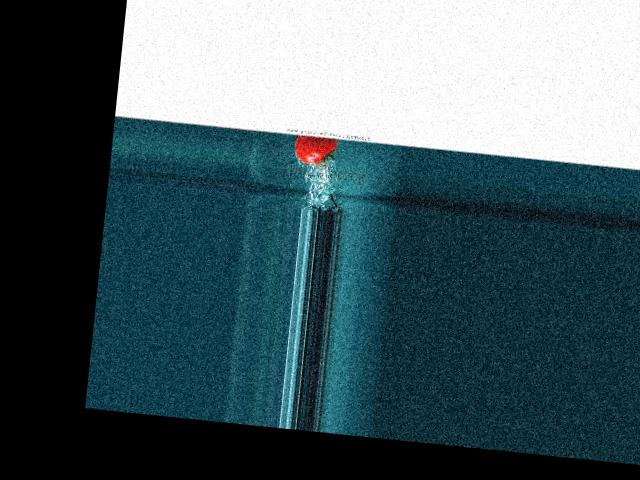tomato: (294, 134, 338, 166)
